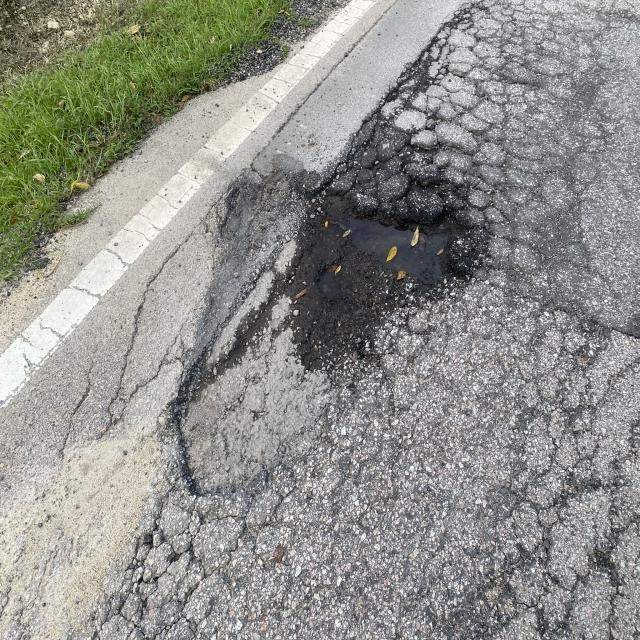pothole: (188, 89, 503, 481)
